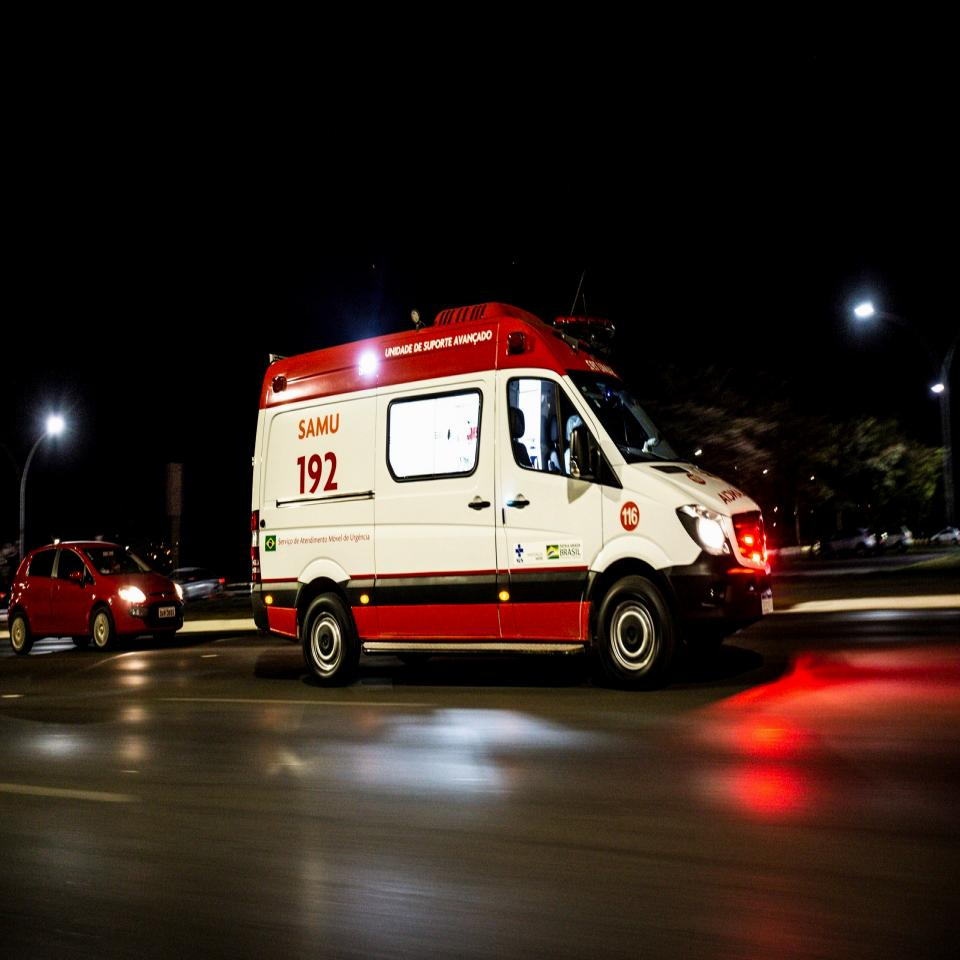ambulancia: (246, 296, 780, 698)
